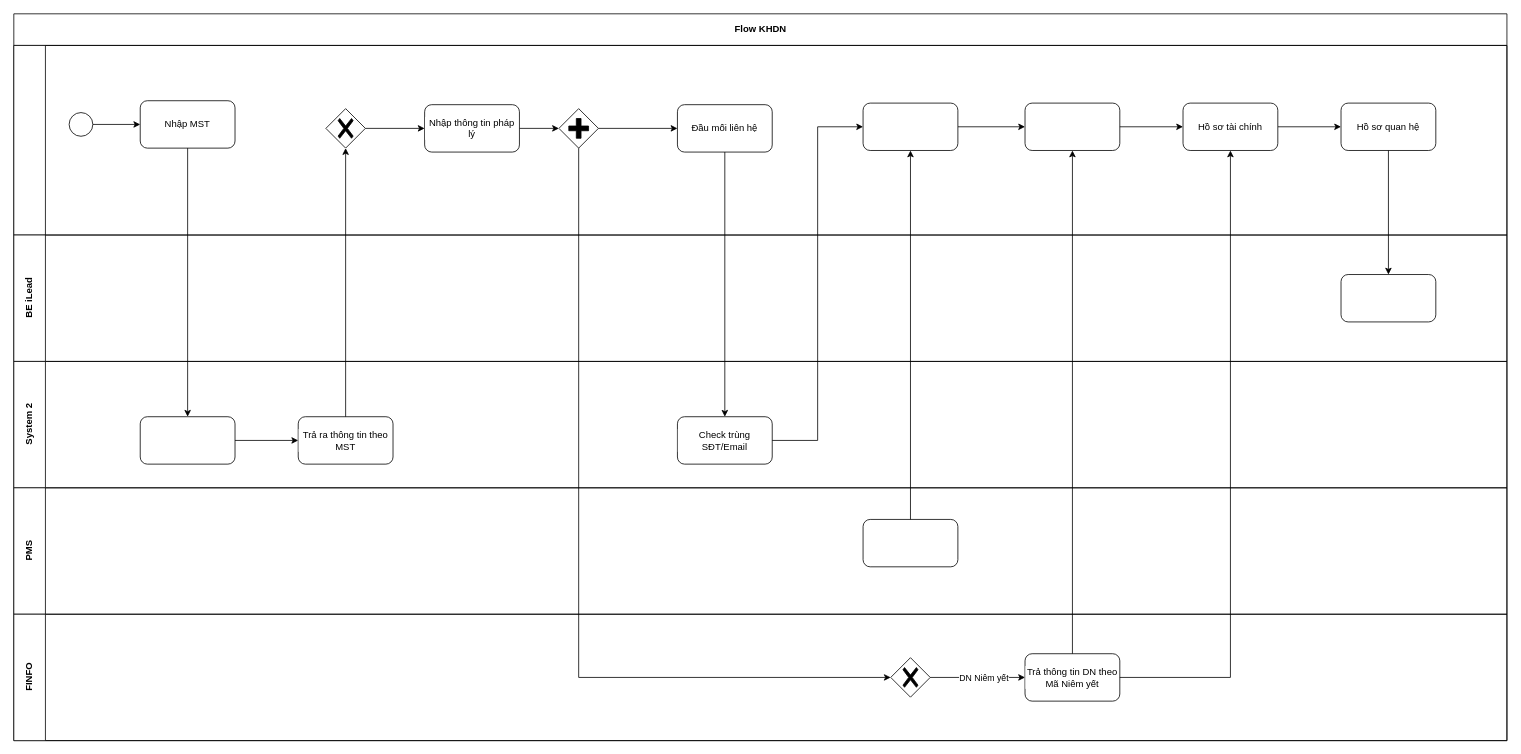
The diagram is 1521 pixels wide and 754 high, and some of its shapes have lost their labels. Here are the shapes that lost their labels. From the top down, the box of each, then its label:
(13, 45, 1507, 235): iLead
(862, 102, 958, 150): Hồ sơ nhu cầu
(1024, 102, 1120, 150): Hồ sơ DN
(1340, 274, 1436, 322): Ghi nhận cài đặt
(139, 416, 235, 464): Check MST có tồn tại không
(862, 519, 958, 567): Trả ra sản phẩm theo nhu cầu
